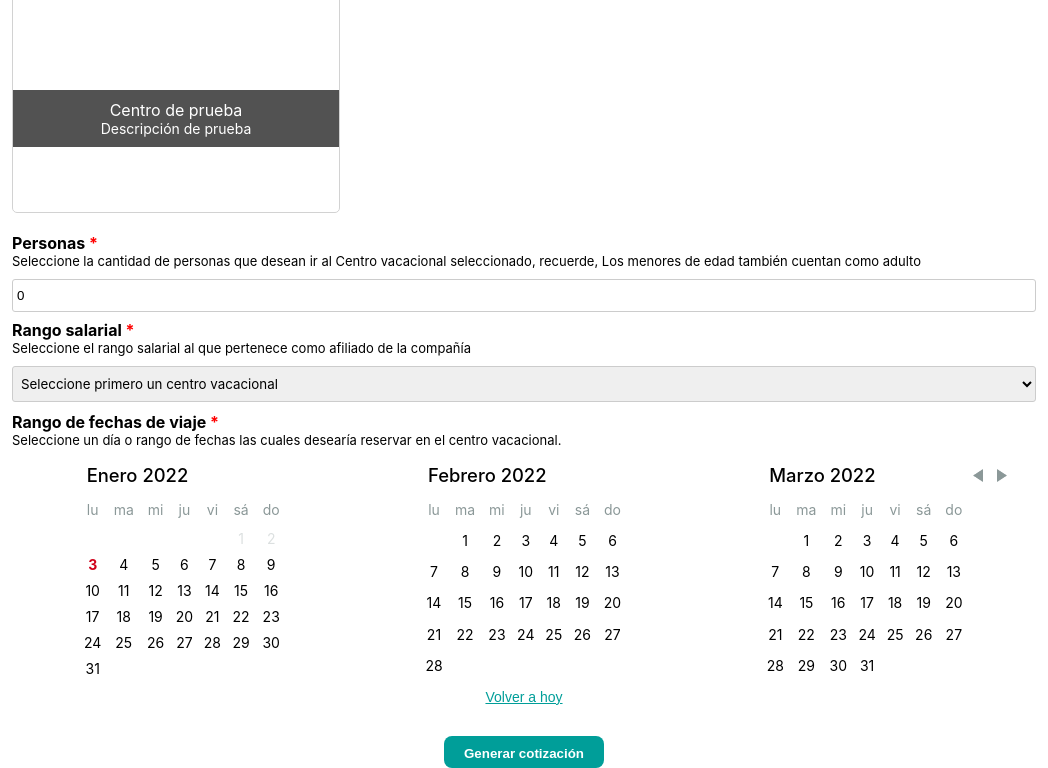
Scenario: CrearCotizacion test › Debería fallar al no tener los valores obligatorios presentes
This screenshot has width=1048, height=768.
(page scrolled)
Click the submit button at (524, 752), box [444,736,604,767]
(page scrolled)
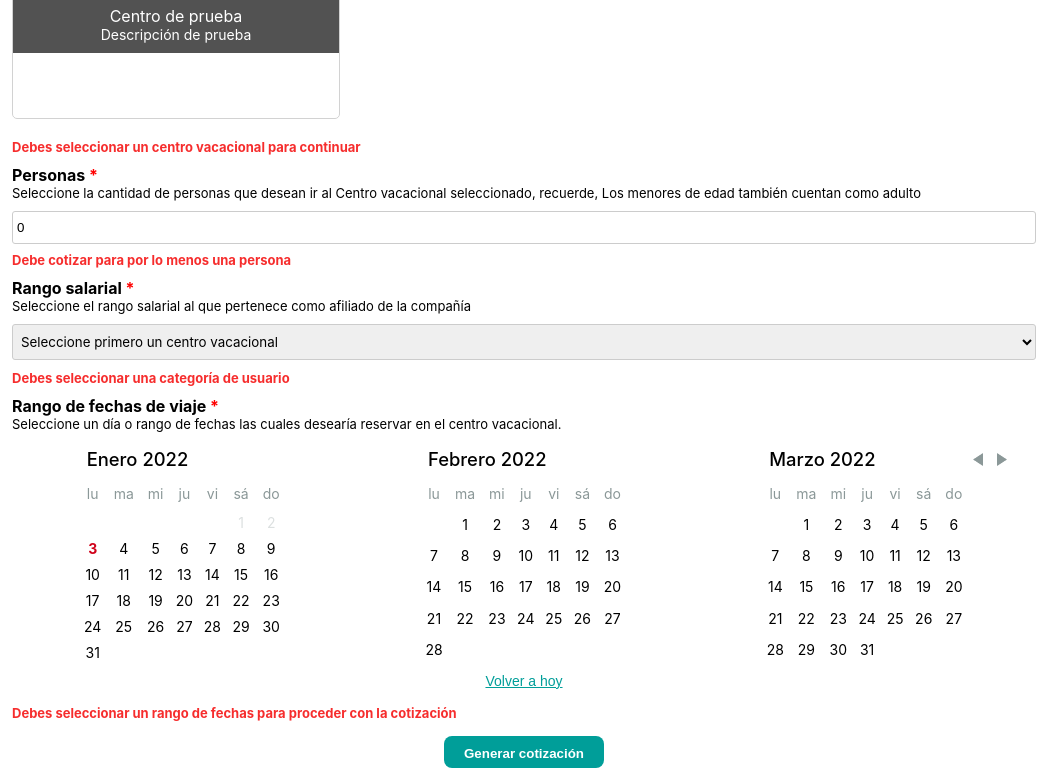
Expected: the text "Debes seleccionar un centro vacacional para continuar" is shown, [12,139,361,155]
Expected: the text "Debe cotizar para por lo menos una persona" is shown, [12,252,291,268]
Expected: the text "Debes seleccionar una categoría de usuario" is shown, [12,370,290,386]
